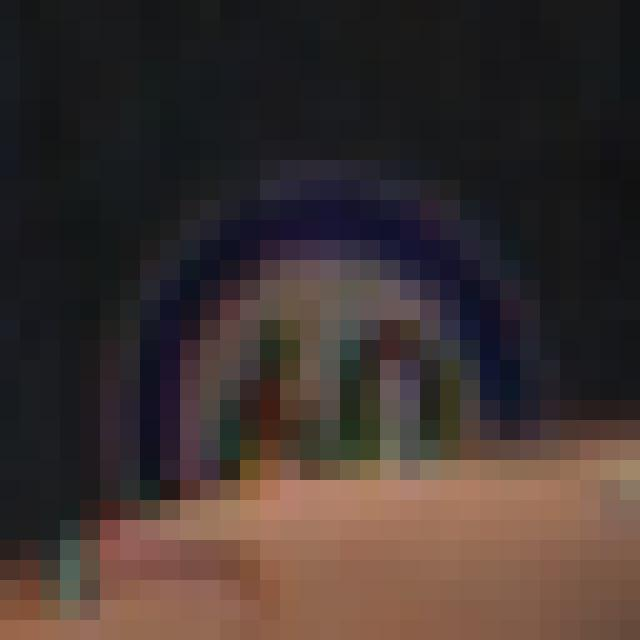SPEED-LIMIT-60: (119, 174, 556, 602)
